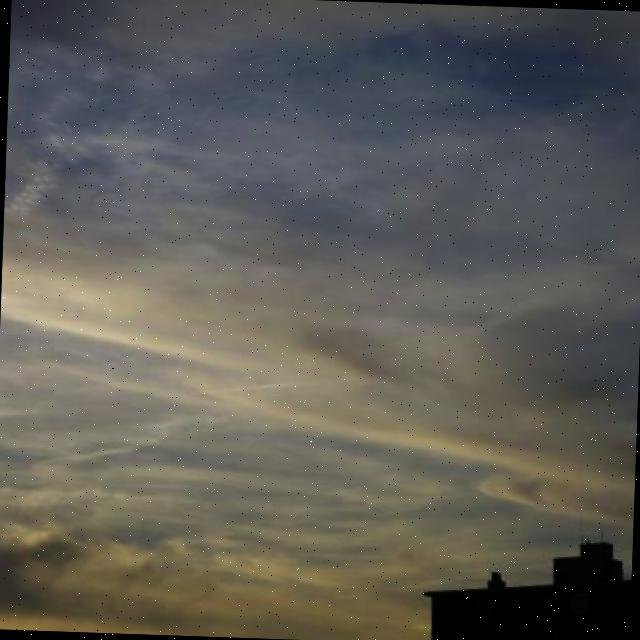Ct: (1, 59, 640, 520)
